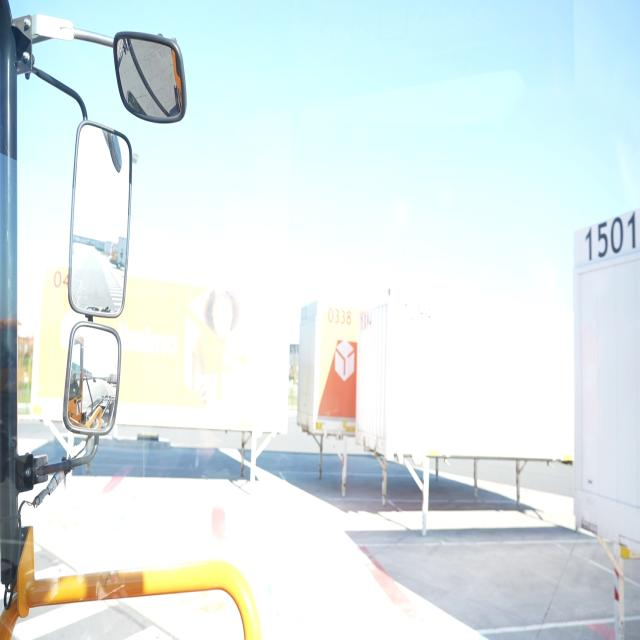Code: (584, 207, 639, 265), (322, 299, 350, 329)
